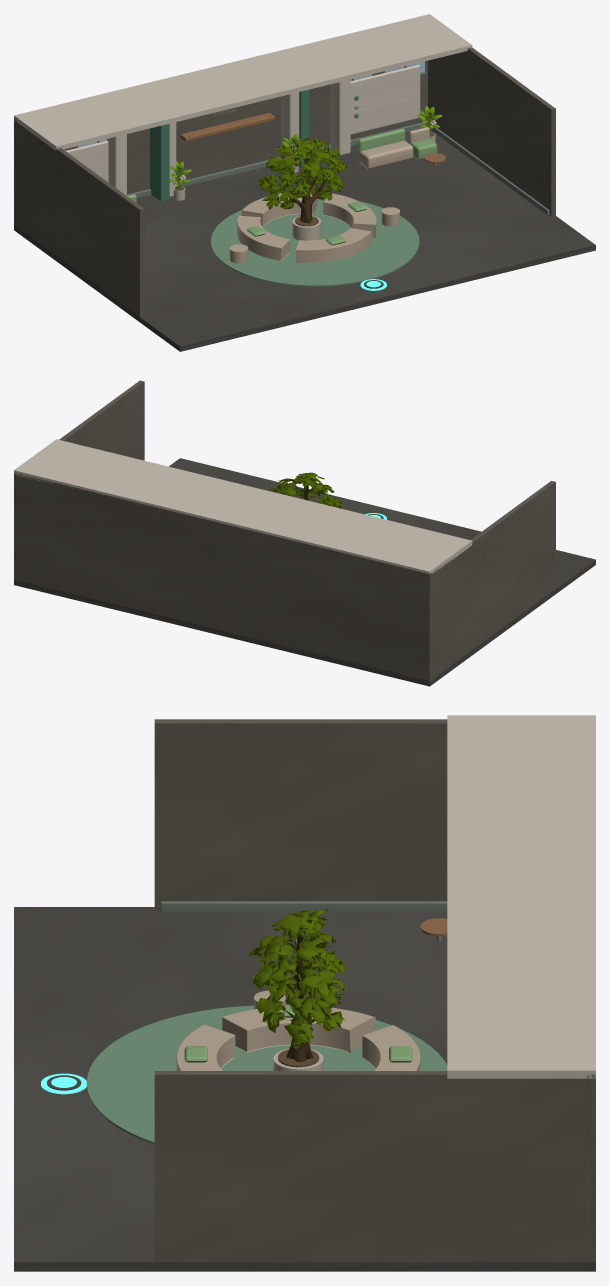
File: student-hall.glb
The picture shows the model from 3 angles, top to bottom: view 1: azimuth 30°, elevation 25°; view 2: azimuth 150°, elevation 25°; view 3: azimuth 270°, elevation 25°; orthographic projection. The views are drawn at different scales.
Visible parts, largest first — view 1: Floor, CeilingBack, LeftWall, RightWall, BackWall, RoundRug, tripo_node_0dde67af-841b-4742-82a1-1dec368d5454, ClubBoard, CurvedBench_3, Column.003, SagePier, CurvedBench_2 (+13 smaller); view 2: BackWall, CeilingBack, LeftWall, Floor, RightWall, tripo_node_0dde67af-841b-4742-82a1-1dec368d5454; view 3: RightWall, Floor, CeilingBack, LeftWall, RoundRug, tripo_node_0dde67af-841b-4742-82a1-1dec368d5454, CurvedBench_2, LeftBaseboard, CurvedBench_3, CurvedBench_1, BackWall.
Part boxes in pixels (box(x1,y1,x2,y2)): Floor: box(14, 131, 595, 351); CeilingBack: box(14, 14, 472, 150); LeftWall: box(16, 122, 144, 316); RightWall: box(428, 47, 555, 216); BackWall: box(14, 60, 427, 226); RoundRug: box(211, 197, 419, 286); tripo_node_0dde67af-841b-4742-82a1-1dec368d5454: box(258, 137, 347, 223); ClubBoard: box(350, 64, 420, 134); CurvedBench_3: box(295, 228, 371, 262); Column.003: box(330, 79, 350, 155); SagePier: box(150, 123, 169, 201); CurvedBench_2: box(237, 215, 289, 260); BackWall: box(14, 473, 432, 680); CeilingBack: box(14, 439, 472, 573); LeftWall: box(431, 481, 555, 679); Floor: box(14, 458, 595, 686); RightWall: box(59, 380, 144, 460); tripo_node_0dde67af-841b-4742-82a1-1dec368d5454: box(268, 472, 345, 509); RightWall: box(154, 1071, 590, 1262); Floor: box(14, 907, 595, 1271); CeilingBack: box(447, 715, 595, 1078); LeftWall: box(154, 719, 447, 910); RoundRug: box(86, 1005, 447, 1144); tripo_node_0dde67af-841b-4742-82a1-1dec368d5454: box(248, 909, 347, 1062); CurvedBench_2: box(222, 1008, 375, 1052); LeftBaseboard: box(161, 901, 447, 911); CurvedBench_3: box(176, 1024, 235, 1070); CurvedBench_1: box(361, 1025, 420, 1070); BackWall: box(587, 1074, 595, 1262).
Bounding box in the file's own units: 26 × 6.86 × 18.
22 materials, 7 textured.
